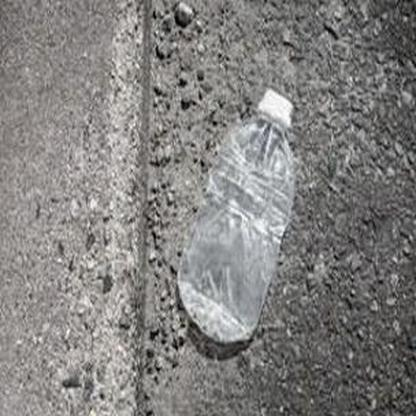plastic bottle: (177, 88, 296, 344)
